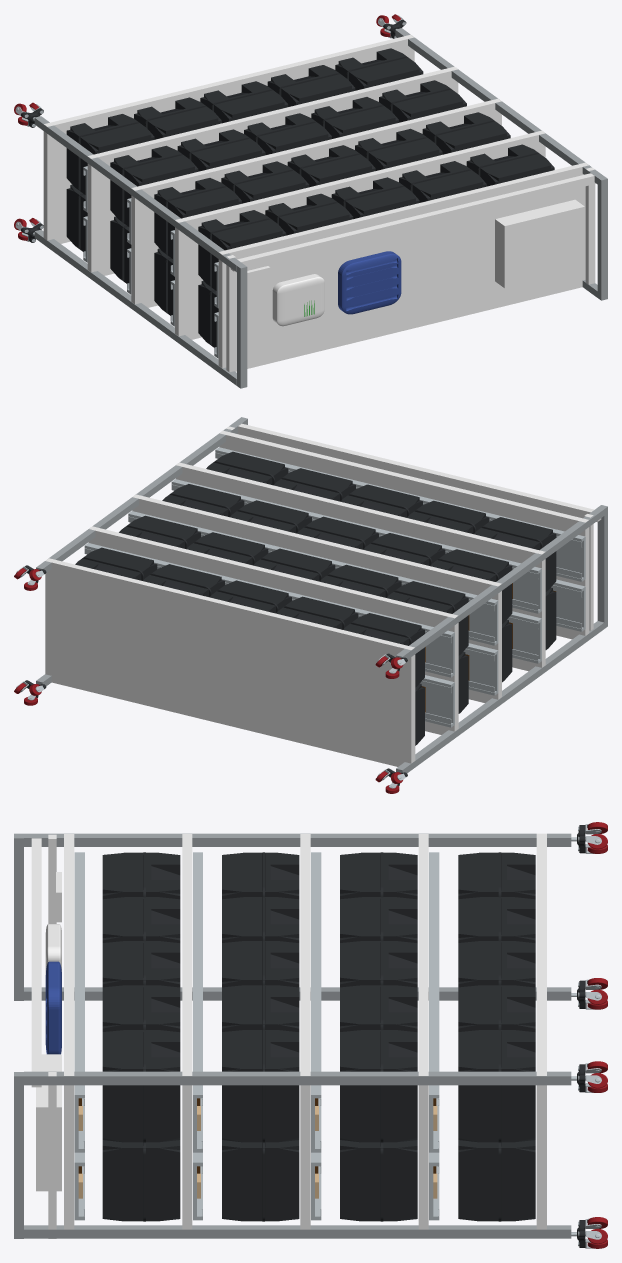
Rendered from UHF-4-5-2.glb.
The picture shows the model from 3 angles, top to bottom: view 1: azimuth 30°, elevation 25°; view 2: azimuth 150°, elevation 25°; view 3: azimuth 270°, elevation 25°; orthographic projection. The views are drawn at different scales.
Parts seen in each view (by area): view 1: group_168_16448250, group_167_16448250, group_5_16448250, group_165_16448250, group_166_16448250, group_9_10988977, group_0_16448250, group_169_16448250, group_8_10988977, group_4_3888547, group_124_2829873, group_144_2829873 (+26 smaller); view 2: group_5_16448250, group_168_16448250, group_167_16448250, group_165_16448250, group_166_16448250, group_9_10988977, group_169_16448250, group_8_10988977, group_37_12568524, group_19_12568524, group_55_12568524, group_73_12568524 (+31 smaller); view 3: group_8_10988977, group_9_10988977, group_88_2829873, group_128_2829873, group_148_2829873, group_108_2829873, group_93_2829873, group_153_2829873, group_133_2829873, group_113_2829873, group_5_16448250, group_165_16448250 (+57 smaller).
Boxes of the visible parts, x1,y1,x2,y2 form: group_168_16448250: (218,162,588,371); group_167_16448250: (175,130,545,339); group_5_16448250: (43,34,414,243); group_165_16448250: (87,66,458,275); group_166_16448250: (131,98,501,307); group_9_10988977: (34,116,247,388); group_0_16448250: (495,199,584,288); group_169_16448250: (230,173,595,271); group_8_10988977: (395,28,607,300); group_4_3888547: (338,251,401,314); group_124_2829873: (110,145,198,226); group_144_2829873: (66,114,154,194); group_5_16448250: (45,558,415,766); group_168_16448250: (219,430,589,639); group_167_16448250: (176,462,545,671); group_165_16448250: (88,526,458,734); group_166_16448250: (132,494,501,702); group_9_10988977: (396,505,607,773); group_169_16448250: (237,423,601,521); group_8_10988977: (36,417,247,685); group_37_12568524: (128,511,498,645); group_19_12568524: (84,543,454,677); group_55_12568524: (171,479,541,613); group_73_12568524: (215,447,585,581); group_8_10988977: (14,1071,571,1238); group_9_10988977: (14,833,571,1000); group_88_2829873: (102,1029,180,1142); group_128_2829873: (340,1029,417,1142); group_148_2829873: (458,1029,535,1142); group_108_2829873: (222,1029,299,1142); group_93_2829873: (102,1140,180,1221); group_153_2829873: (458,1140,535,1221); group_133_2829873: (340,1140,417,1221); group_113_2829873: (222,1140,299,1221); group_5_16448250: (536,833,546,1229); group_165_16448250: (418,834,428,1229).
Size of the model in its own units: 148 by 49.6 by 146.
